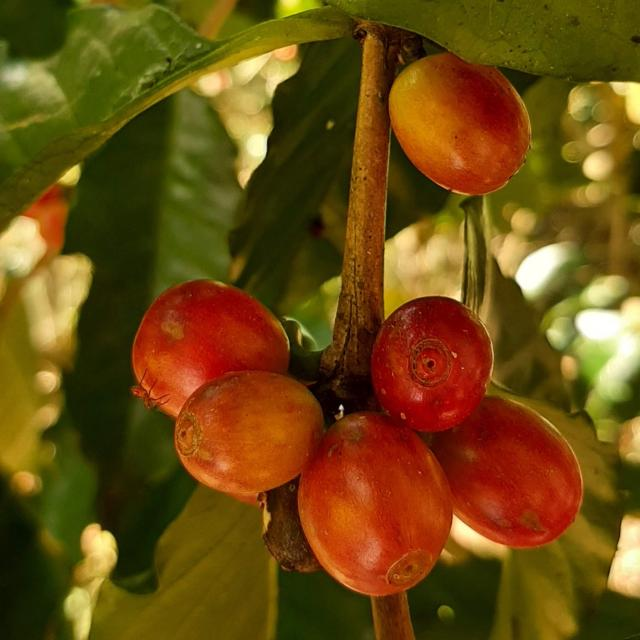red: (298, 412, 453, 597), (431, 396, 584, 549), (132, 280, 290, 418), (372, 296, 494, 432), (258, 478, 322, 573)
yellow: (389, 52, 532, 195), (174, 371, 324, 495)
